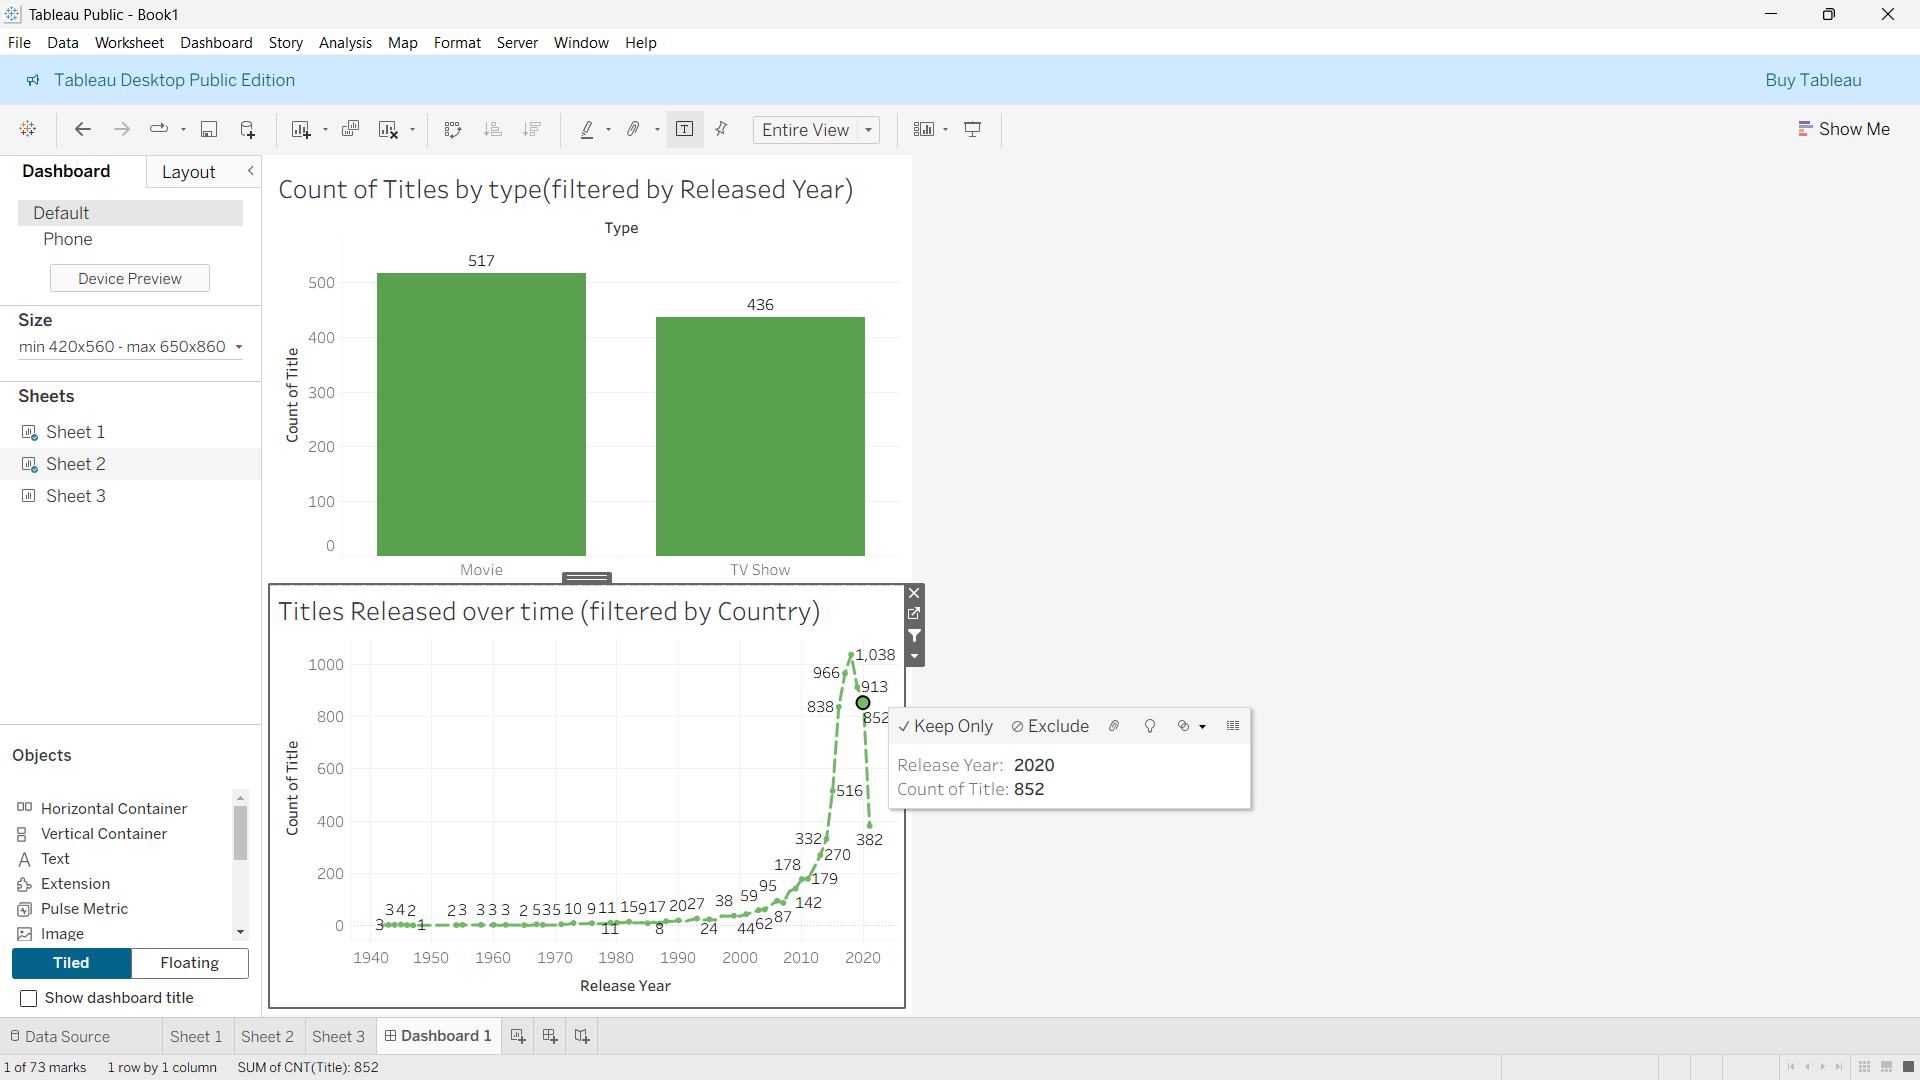

Layout of this report page (visuals, bound fields, positions):
{"tool":"tableau","page":{"name":"Dashboard 1","canvas":[650,860],"ordinal":0},"visuals":[{"type":"worksheet","title":"Sheet 1","mark":"Automatic","rows":["title"],"cols":["type"],"box":[8,8,634,422]},{"type":"worksheet","title":"Sheet 2","mark":"Automatic","rows":["title"],"cols":["release_year"],"box":[8,430,634,422]}]}

Visuals, with their boxes on the page's 650x860 design canvas (x1, y1, x2, y2). These are canvas units, not pixel positions in the 1920x1080 screenshot, which may show the page scaled, cropped or inside an application window:
"Sheet 1" worksheet: bbox=[8, 8, 642, 430]
"Sheet 2" worksheet: bbox=[8, 430, 642, 852]
